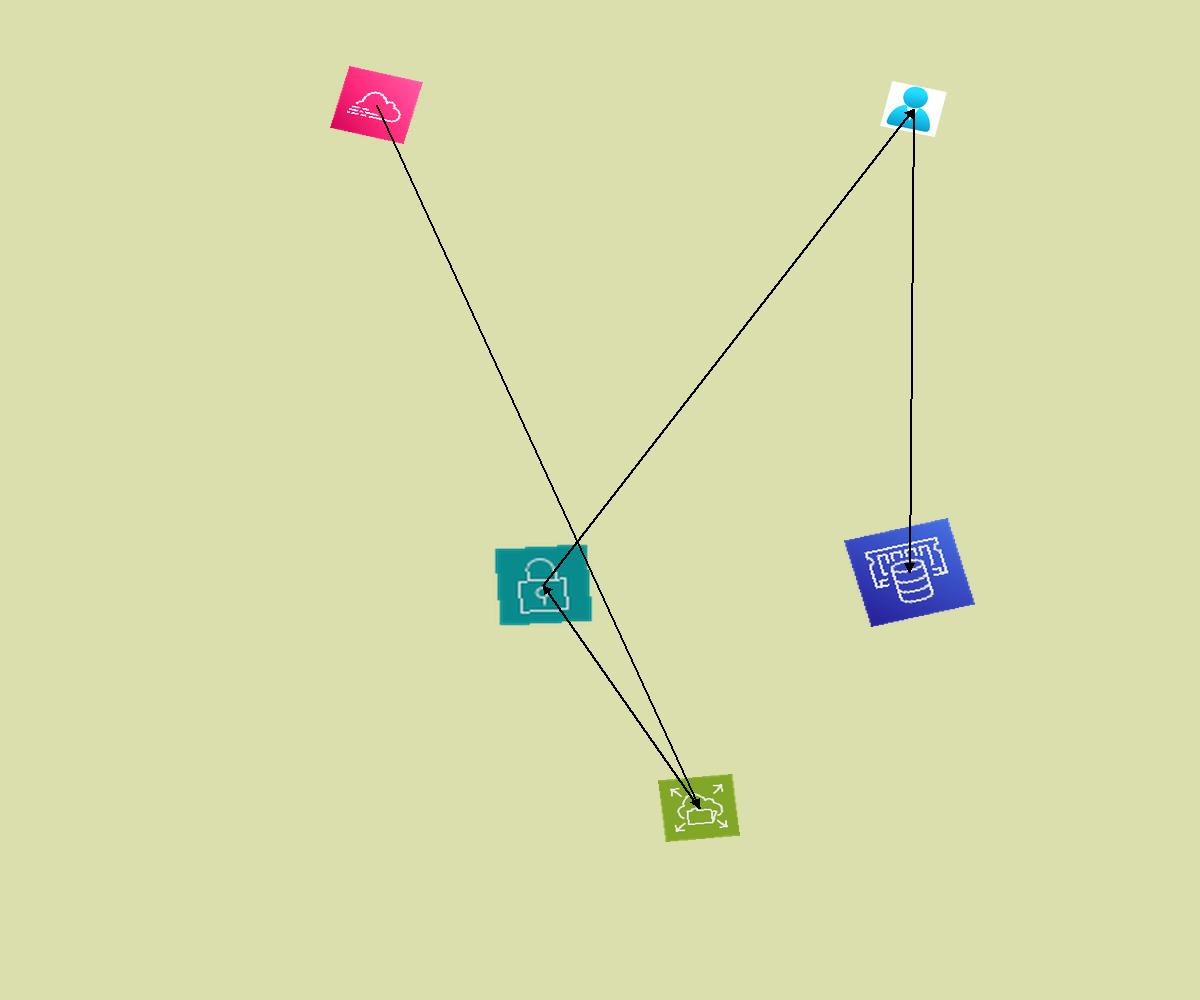AWS-CloudTrail: (330, 66, 423, 144)
AWS-EFS: (658, 774, 740, 842)
AWS-ElastiCache: (844, 518, 975, 627)
AWS-Private-subnet: (493, 543, 594, 627)
Azure_users: (880, 81, 947, 137)
